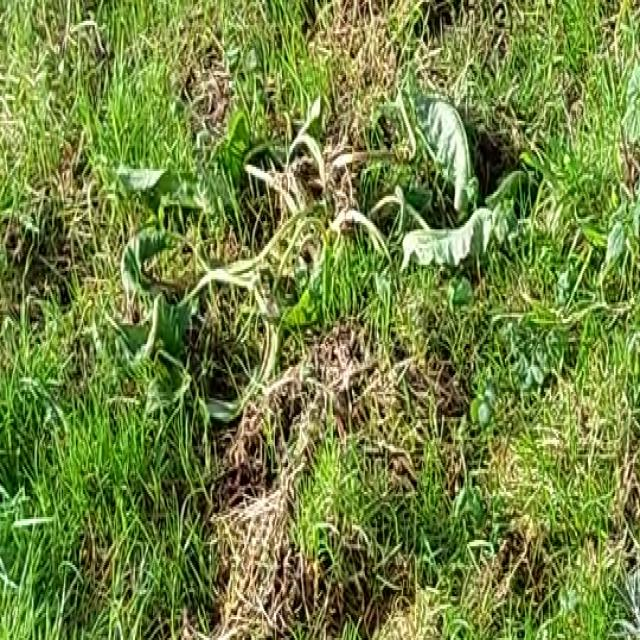organic waste: (95, 60, 524, 452)
